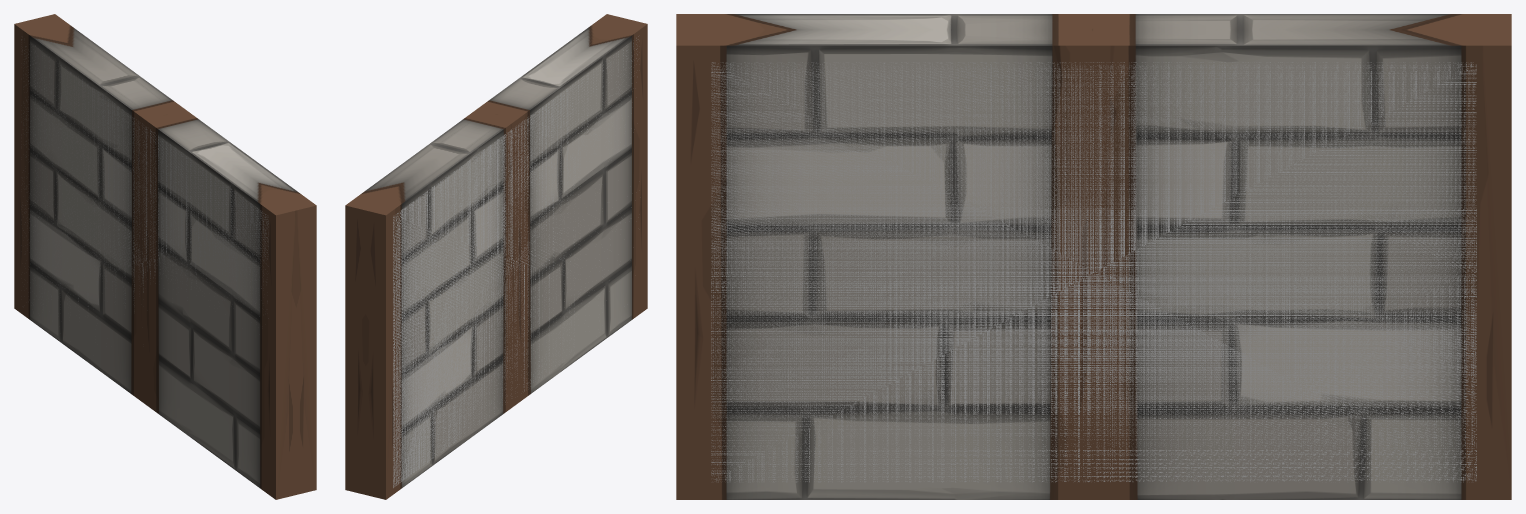
Rendered from SM_Bld_Wall_Small_01.fbx.
3 renders of one model, left to right at view 1: azimuth 30°, elevation 25°; view 2: azimuth 150°, elevation 25°; view 3: azimuth 270°, elevation 25°, orthographic. The views are drawn at different scales.
Visible parts, largest first — view 1: SM_Bld_Wall_Small_01, SM_Bld_Wall_Small_01_ConvexHulls; view 2: SM_Bld_Wall_Small_01, SM_Bld_Wall_Small_01_ConvexHulls; view 3: SM_Bld_Wall_Small_01, SM_Bld_Wall_Small_01_ConvexHulls.
Part boxes in pixels (x1,y1,x2,y2): SM_Bld_Wall_Small_01: (14,14,316,499); SM_Bld_Wall_Small_01_ConvexHulls: (21,39,268,319); SM_Bld_Wall_Small_01: (345,14,647,499); SM_Bld_Wall_Small_01_ConvexHulls: (393,36,638,487); SM_Bld_Wall_Small_01: (676,14,1511,499); SM_Bld_Wall_Small_01_ConvexHulls: (711,62,1476,482).
Size of the model in its own units: 22.5 by 250 by 150.
2 materials, 1 textured.
